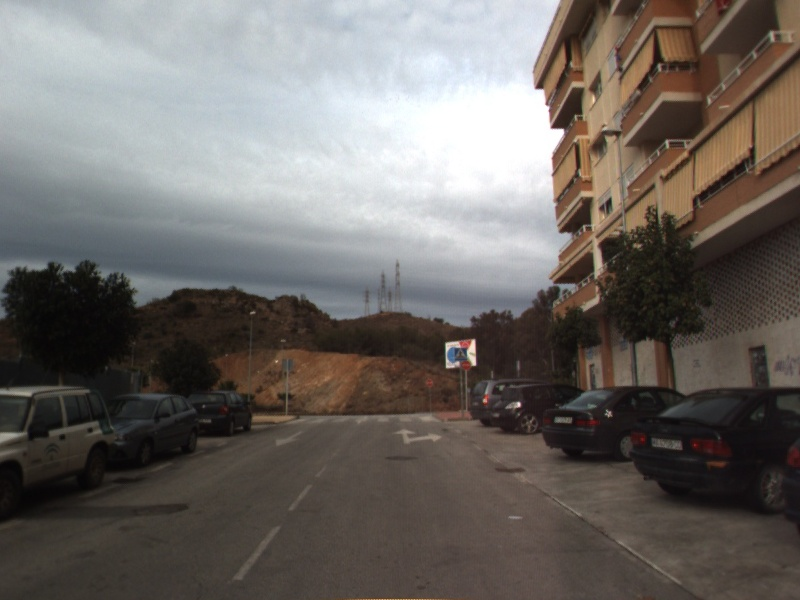STRAIGHT_RIGHT: (391, 426, 444, 446)
